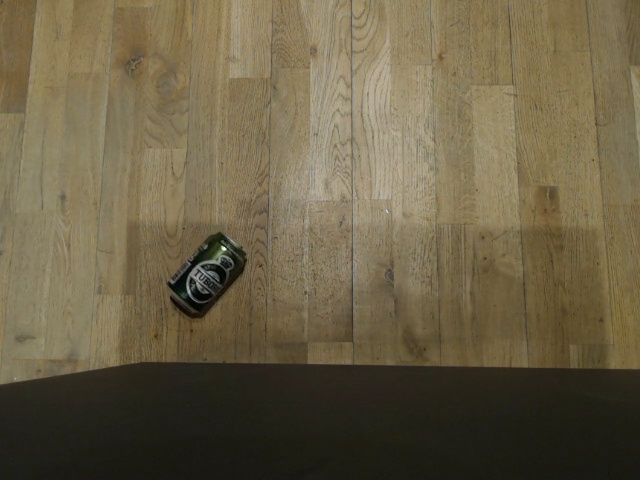beer: (162, 230, 249, 321)
